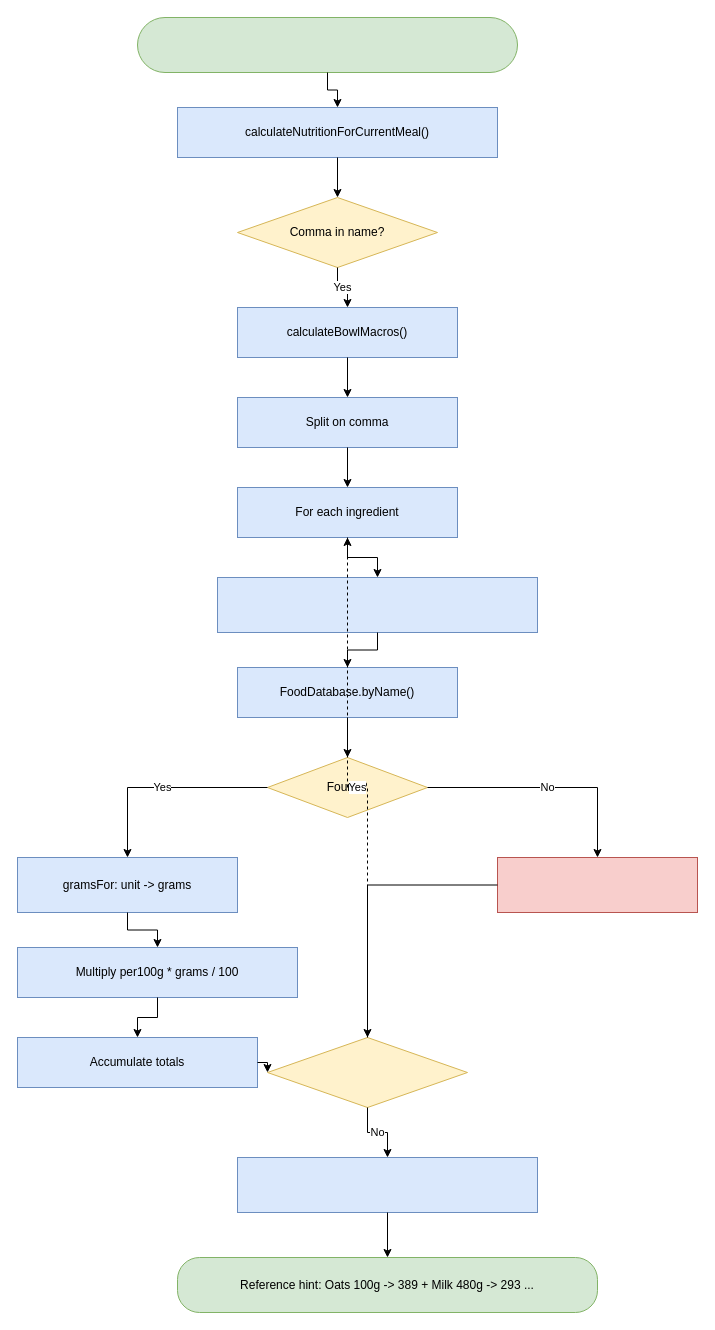
The diagram is 715 pixels wide and 1330 high, and some of its shapes have lost their labels. The centre of each missing label's shape, as x and y in pixels:
"More ingredients?" goes at (x=367, y=1072).
"parseIngredient: regex extract amount+unit+name" goes at (x=377, y=604).
"Push to unknown list" goes at (x=597, y=884).
"Store per-100g equivalent + totals" goes at (x=387, y=1184).
"User types '100g oats, 2 cups milk, 30g protein'" goes at (x=327, y=44).
